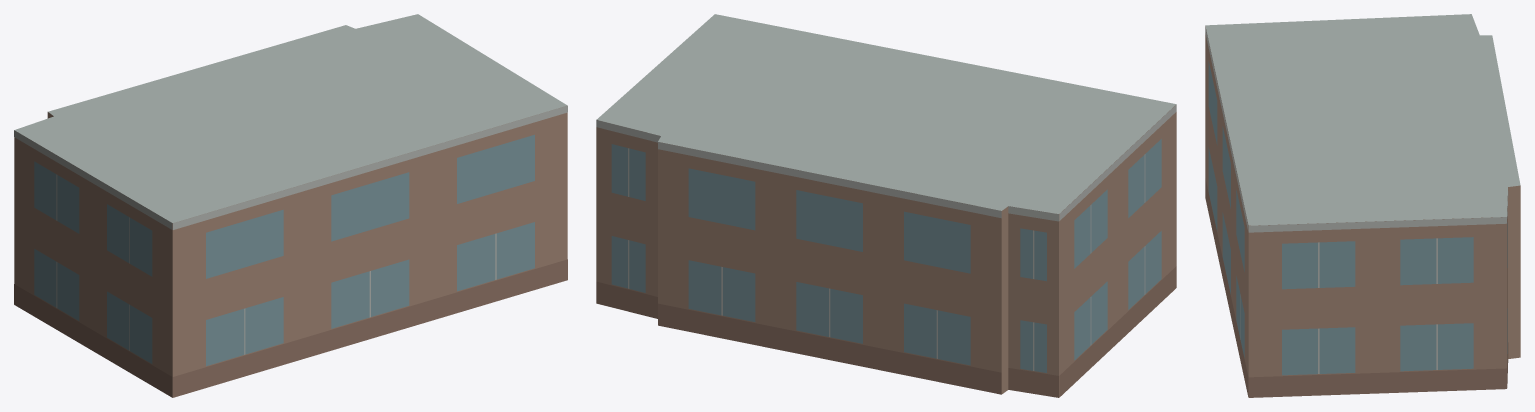
Rendered from survey-upis-32633885.glb.
The picture shows the model from 3 angles, left to right: view 1: azimuth 30°, elevation 25°; view 2: azimuth 150°, elevation 25°; view 3: azimuth 270°, elevation 25°; orthographic projection. The views are drawn at different scales.
Parts seen in each view (by area): view 1: survey-upis-32633885.tmp; view 2: survey-upis-32633885.tmp; view 3: survey-upis-32633885.tmp.
Part boxes in pixels (x1,y1,x2,y2): survey-upis-32633885.tmp: (14,14,567,397); survey-upis-32633885.tmp: (596,14,1176,397); survey-upis-32633885.tmp: (1205,14,1520,397).
Size of the model in its own units: 16.11 by 6.1 by 10.14.
